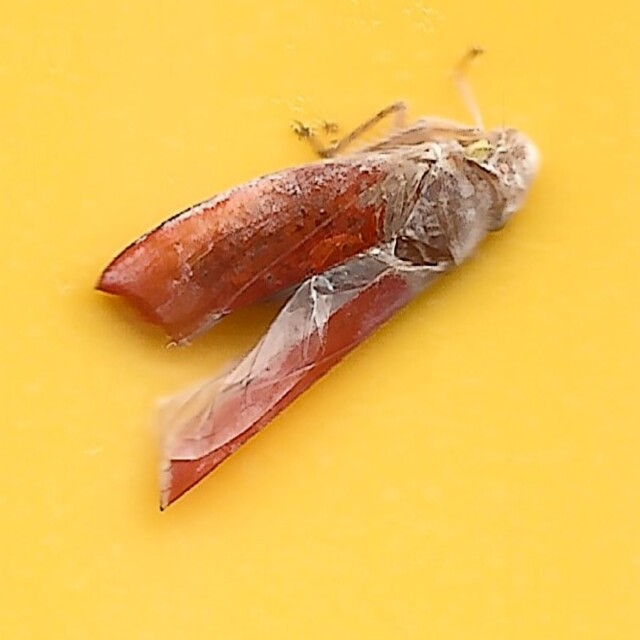Hemiptera: (96, 120, 544, 520)
